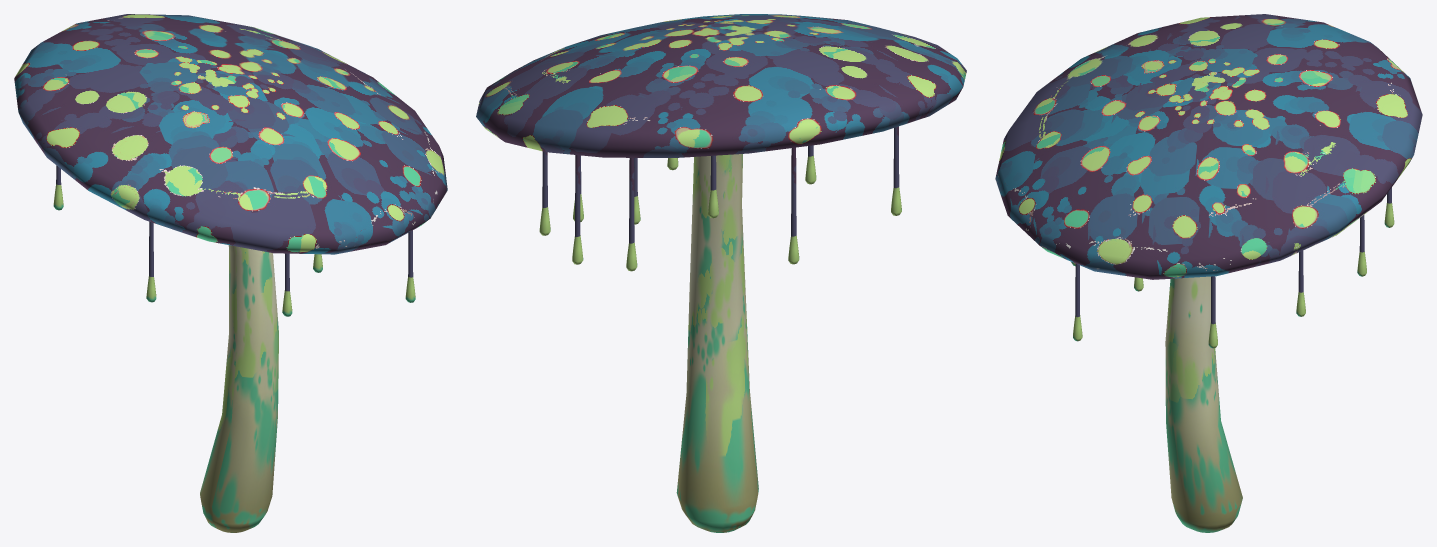
The model's file is FBX_Mushroom3.fbx.
The picture shows the model from 3 angles, left to right: view 1: azimuth 30°, elevation 25°; view 2: azimuth 150°, elevation 25°; view 3: azimuth 270°, elevation 25°; orthographic projection. The views are drawn at different scales.
Visible parts, largest first — view 1: mushroom 3; view 2: mushroom 3; view 3: mushroom 3.
Part boxes in pixels (x1,y1,x2,y2): mushroom 3: [14, 14, 447, 532]; mushroom 3: [476, 14, 966, 532]; mushroom 3: [995, 14, 1422, 532].
Size of the model in its own units: 225 by 258 by 225.
